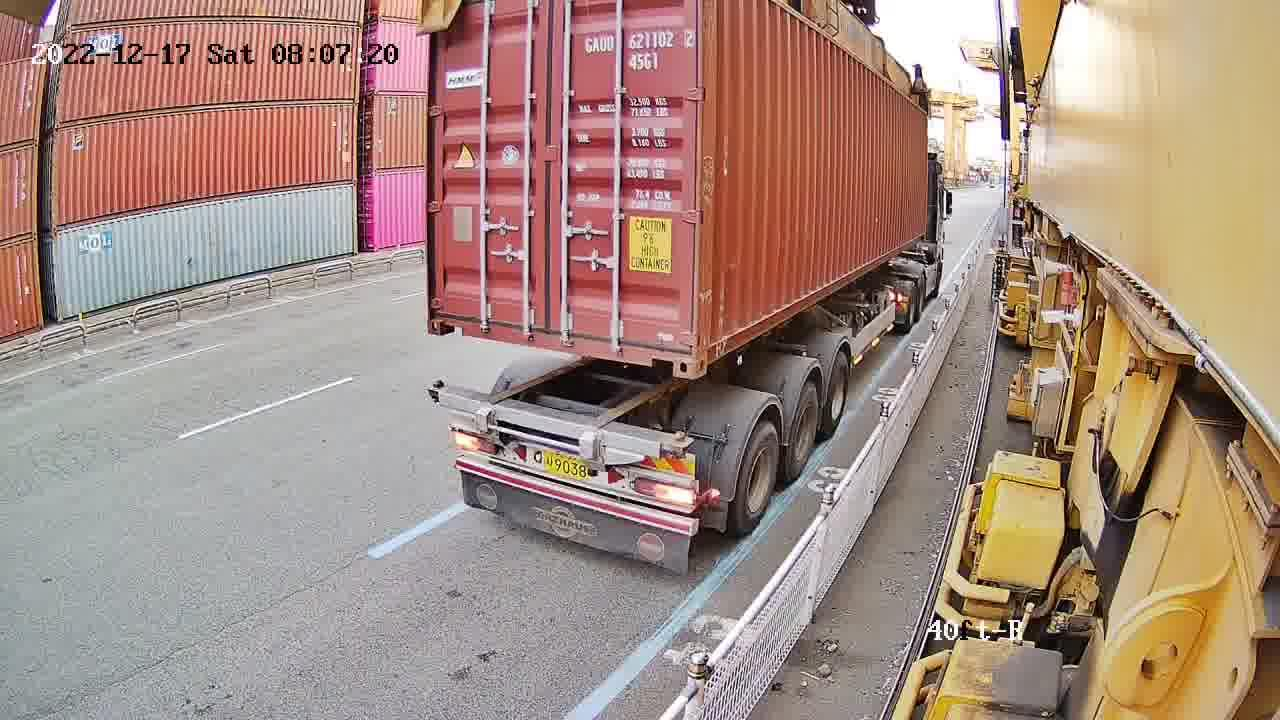Chassis: (441, 395, 670, 467)
Cone: (427, 378, 446, 406), (672, 431, 691, 458)
Hole_L: (696, 319, 727, 376), (427, 297, 462, 335)
Hole_R: (652, 323, 700, 376)
Tire: (735, 431, 779, 532), (788, 391, 820, 474), (826, 359, 850, 427)
